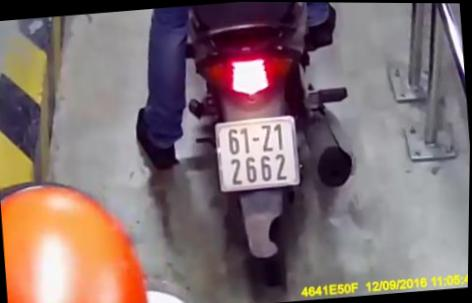LP: (213, 111, 305, 193)
